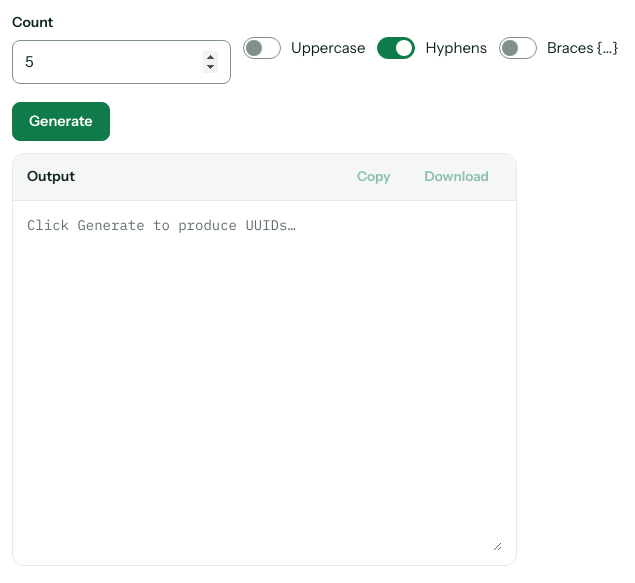
Scenario: UuidGenerator › generates a custom count of UUIDs
The width and height of the screenshot is (635, 583).
Type "3" into the number field with placeholder "5" at [122, 62], box top-left (12, 40), bottom-right (231, 84)
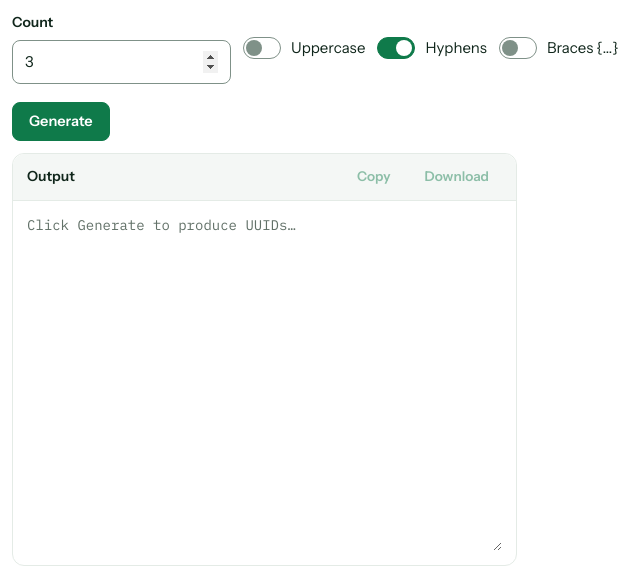
Click the button "Generate" at [61, 122], box top-left (12, 102), bottom-right (110, 141)
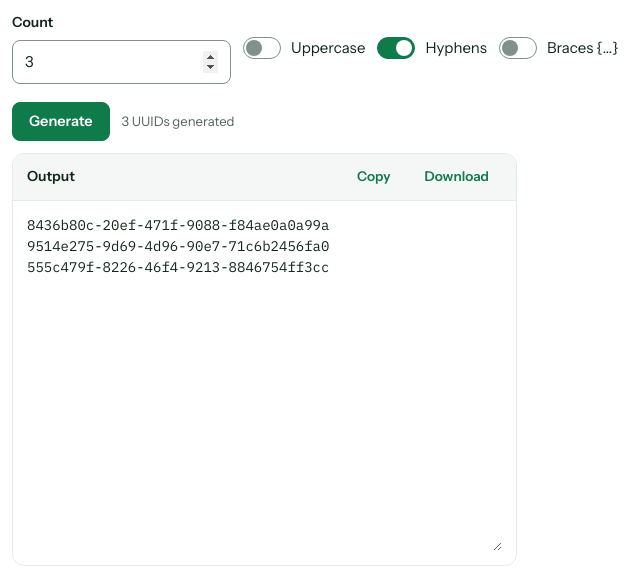
Check: the text "3 UUIDs generated" is shown, box top-left (122, 111), bottom-right (235, 132)
